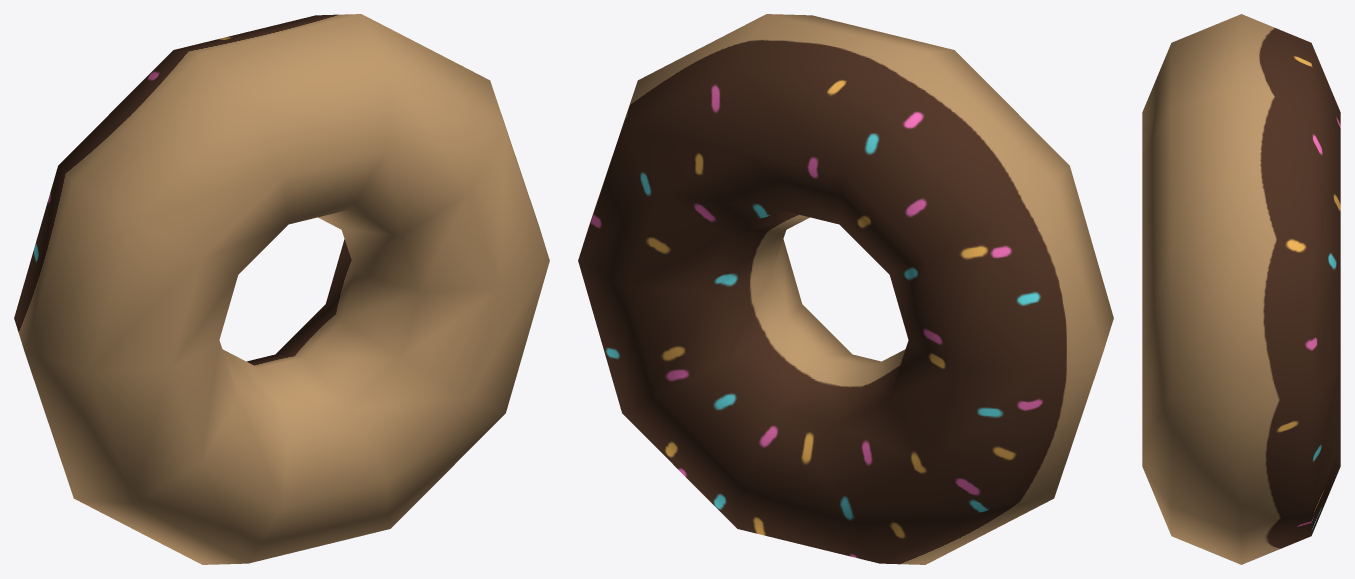
The model's file is Donut.fbx.
The picture shows the model from 3 angles, left to right: view 1: azimuth 30°, elevation 25°; view 2: azimuth 150°, elevation 25°; view 3: azimuth 270°, elevation 25°; orthographic projection. The views are drawn at different scales.
Parts seen in each view (by area): view 1: pTorus1; view 2: pTorus1; view 3: pTorus1.
Part boxes in pixels (x1,y1,x2,y2): pTorus1: (14,14,549,564); pTorus1: (578,14,1113,564); pTorus1: (1142,14,1340,564).
Size of the model in its own units: 278 by 265 by 99.41.
